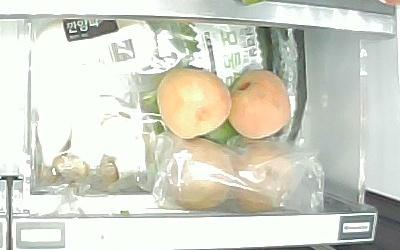peach: (156, 65, 232, 138), (229, 70, 292, 138)
peach_vinyl: (165, 138, 232, 209), (237, 142, 300, 212)
